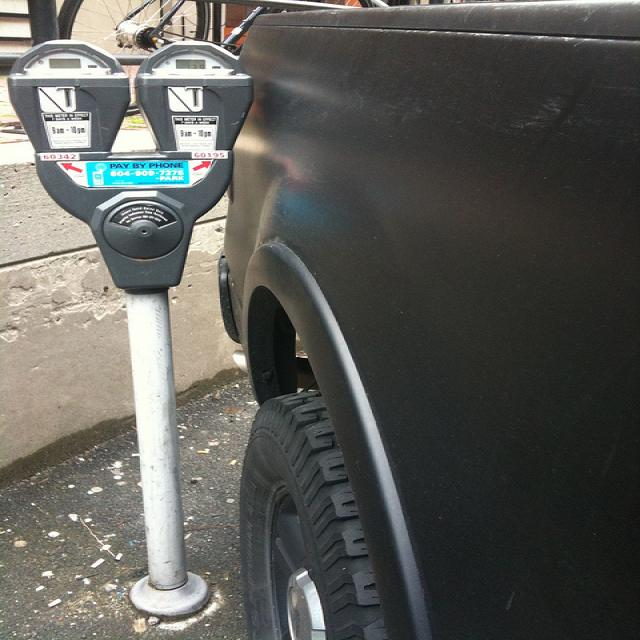Vehicle: (214, 3, 640, 627)
